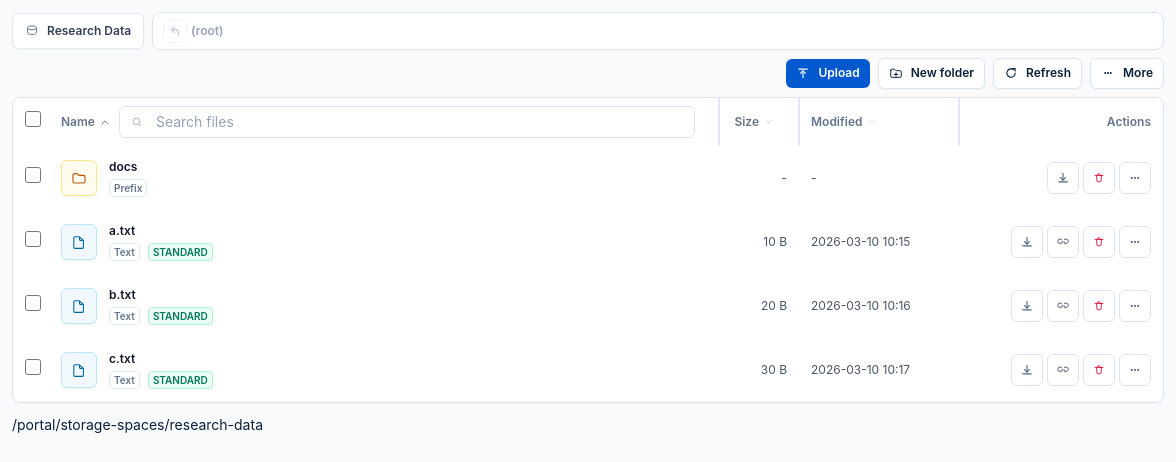
BrowserPage interactions › runs the direct Portal public-link action and keeps it in More
The image size is (1176, 462).
Click the button named "Create public link a.txt": (1063, 242) x1=1047 y1=226 x2=1079 y2=258
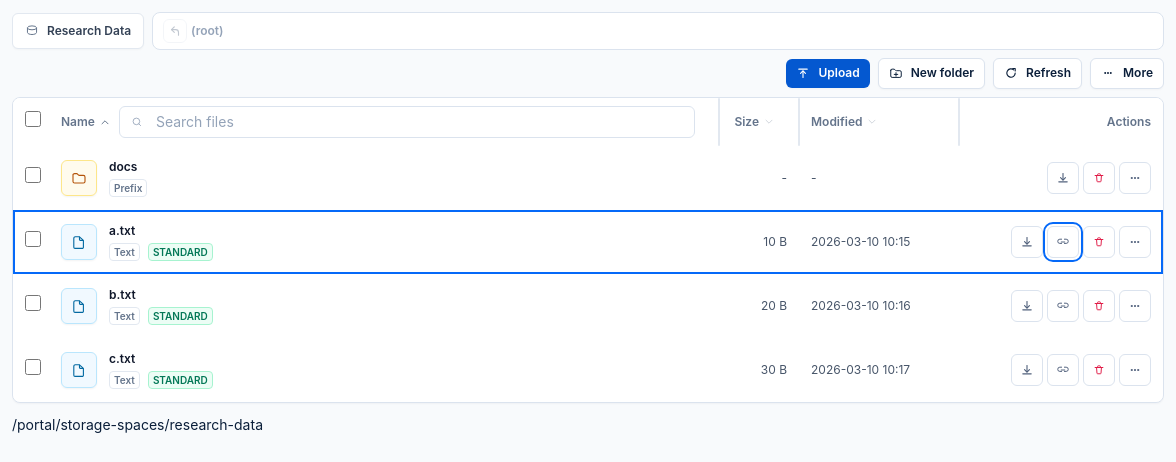
Click the button named "More actions for a.txt": (1135, 242) x1=1119 y1=226 x2=1151 y2=258
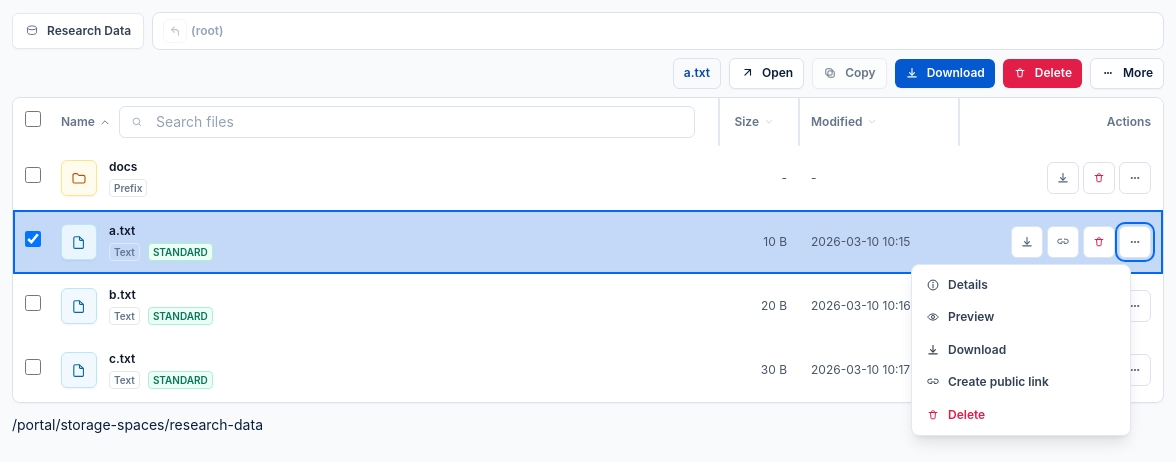
Now the button "Create public link" is shown, box x1=916 y1=366 x2=1126 y2=398
Press Escape
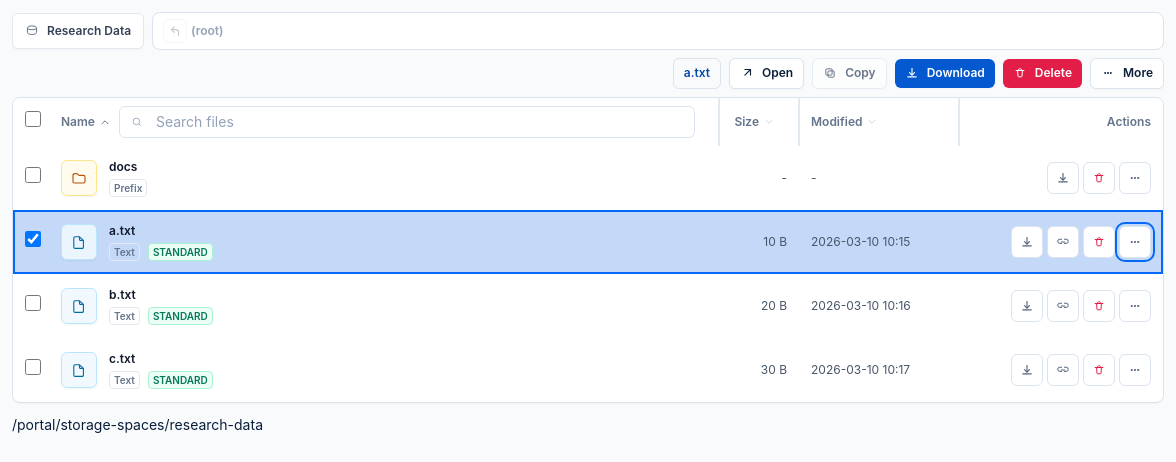
Right-click the text "a.txt": (588, 242) x1=13 y1=210 x2=1163 y2=274
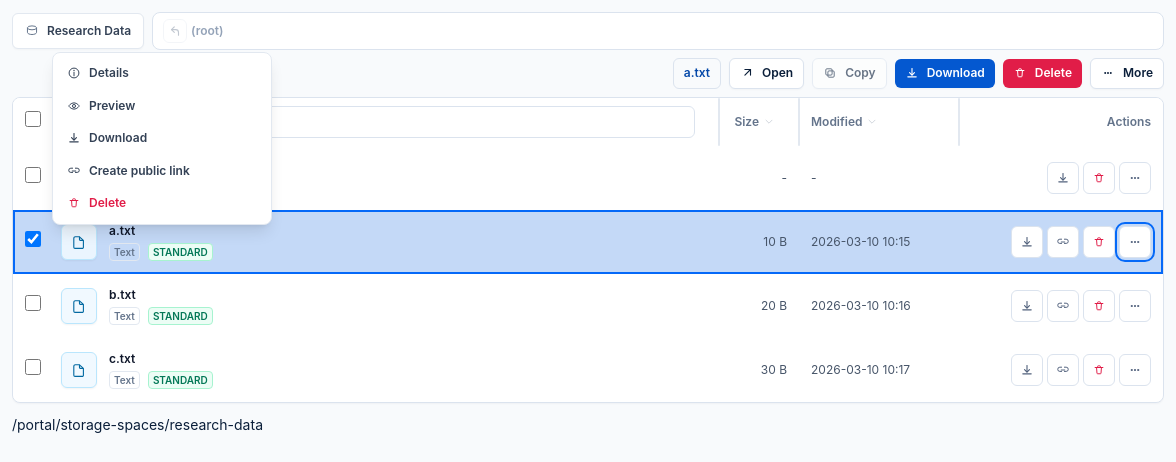
Now the button "Create public link" is shown, box x1=57 y1=154 x2=267 y2=187
